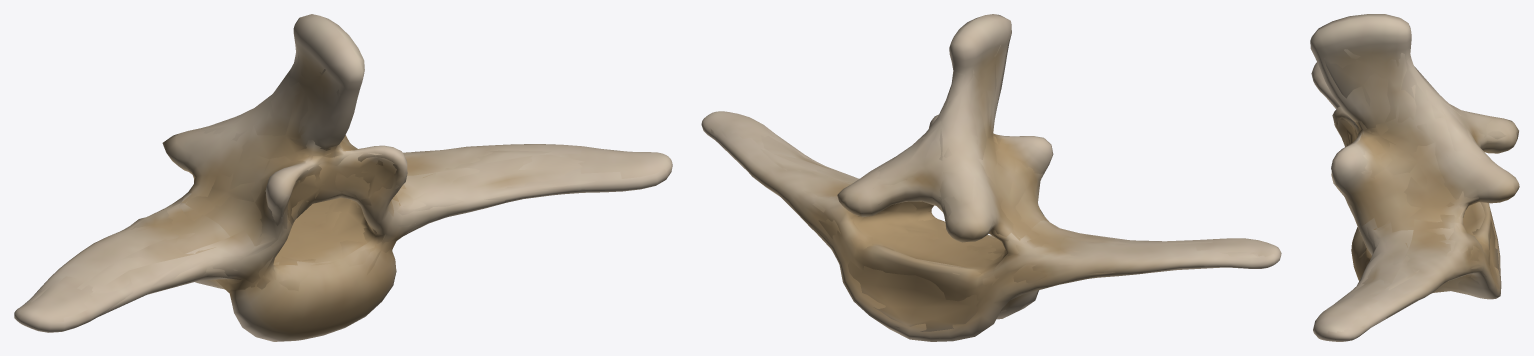
The model's file is vertebrae lumbales 6.fbx.
The picture shows the model from 3 angles, left to right: view 1: azimuth 30°, elevation 25°; view 2: azimuth 150°, elevation 25°; view 3: azimuth 270°, elevation 25°; orthographic projection. The views are drawn at different scales.
Parts seen in each view (by area): view 1: vertebrae lumbales 6, vertebrae lumbales 6 low; view 2: vertebrae lumbales 6, vertebrae lumbales 6 low; view 3: vertebrae lumbales 6, vertebrae lumbales 6 low.
Part boxes in pixels (left/top/right/bottom): vertebrae lumbales 6: left=14, top=14, right=672, bottom=341; vertebrae lumbales 6 low: left=25, top=56, right=623, bottom=316; vertebrae lumbales 6: left=701, top=14, right=1281, bottom=341; vertebrae lumbales 6 low: left=710, top=45, right=1259, bottom=331; vertebrae lumbales 6: left=1310, top=14, right=1519, bottom=341; vertebrae lumbales 6 low: left=1324, top=49, right=1506, bottom=328.
Bounding box in the file's own units: 24.44 × 11.57 × 7.67.
1 material, 1 textured.
